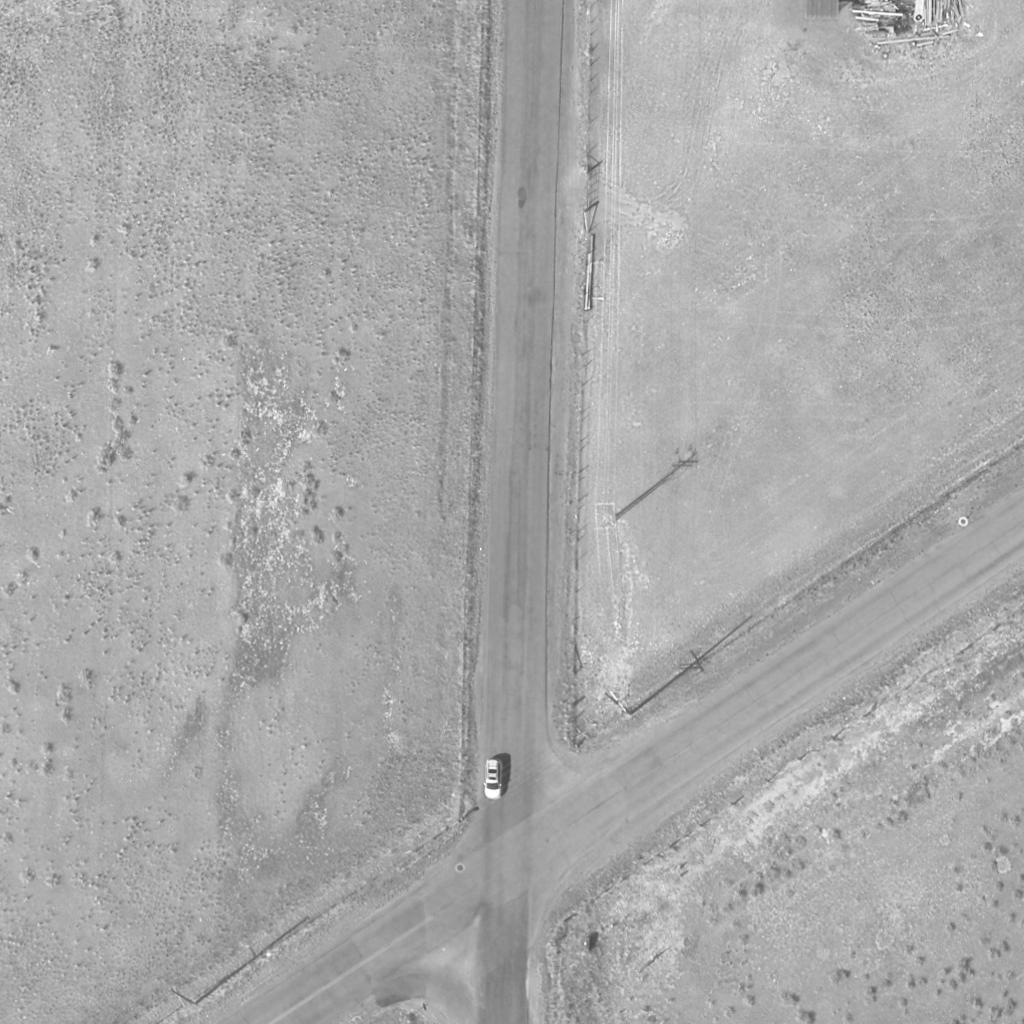vehicle: (483, 759, 503, 799)
